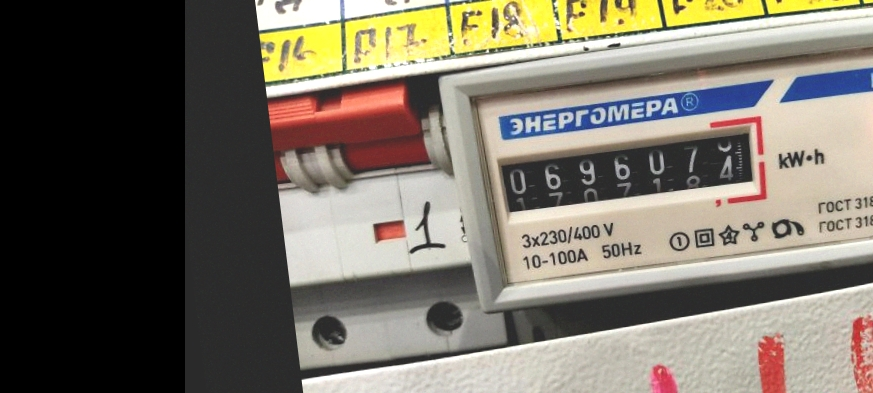0: (506, 164, 530, 196), (646, 144, 669, 176)
4: (715, 152, 737, 182)
6: (540, 159, 566, 191), (612, 150, 634, 180)
7: (681, 141, 701, 173)
9: (577, 156, 598, 187)
screen: (479, 108, 773, 232)
